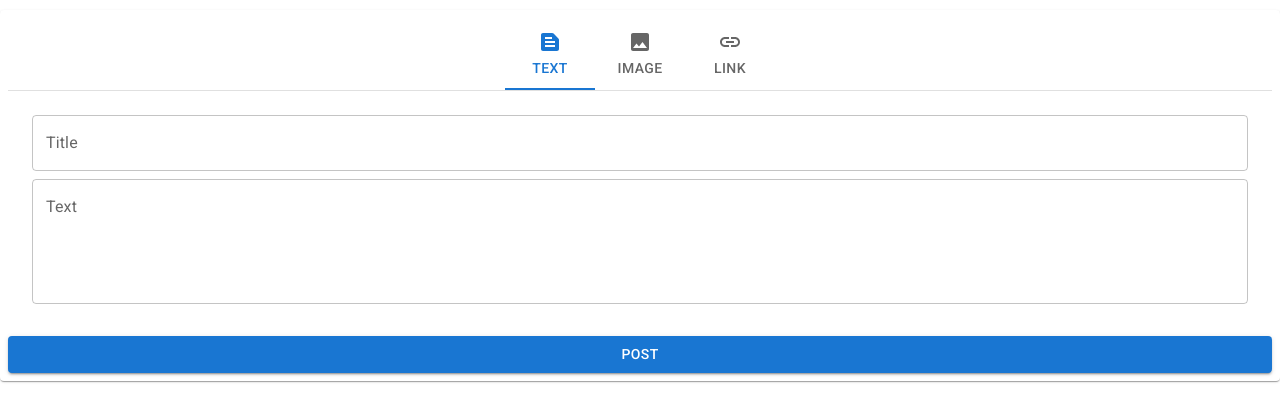
Test: CreatePostCard Tests › Check interaction with elements › should close the snackbar when the cross button is pressed
Click the tab with test id "image-icon" at (640, 54), box 595,18 -> 685,90
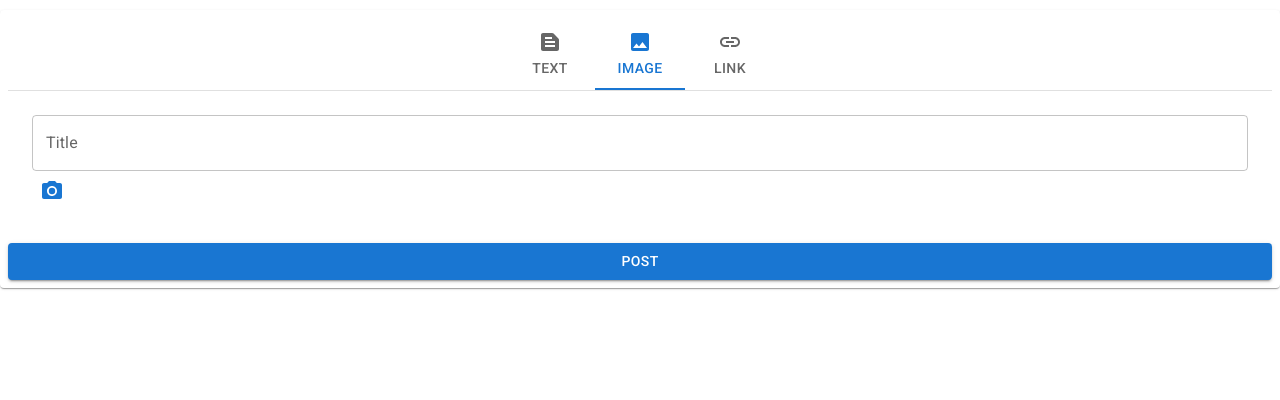
Click the button "Post" at (640, 261), box 8,243 -> 1272,280
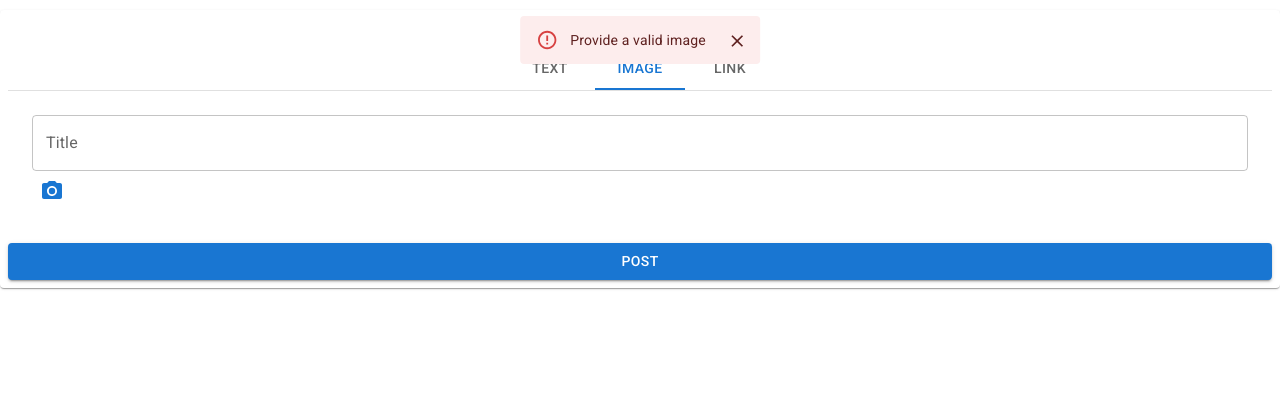
Check: the element with test id "snackbar" is shown, box 520,16 -> 760,64
Click the button named "Close" at (737, 41), box 722,26 -> 752,56
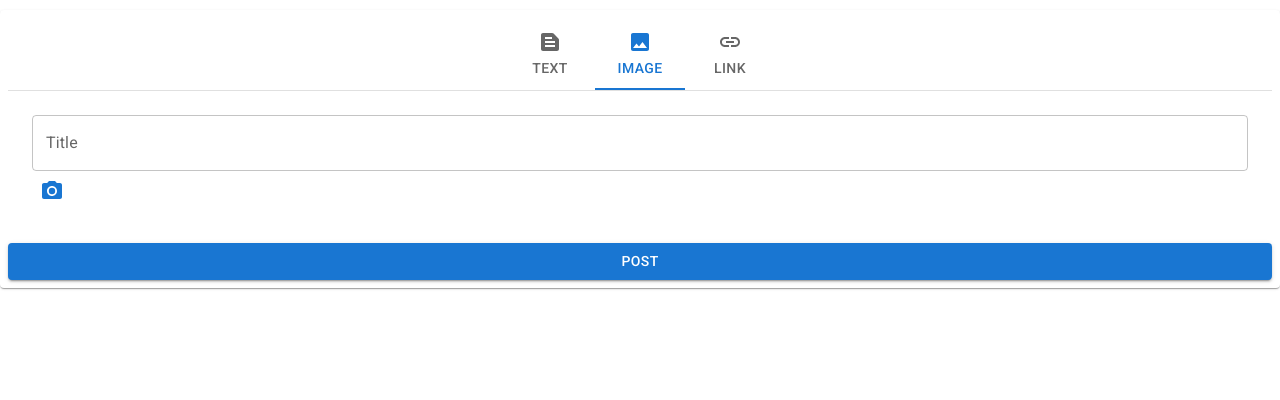
Check: the element with test id "snackbar" is gone
